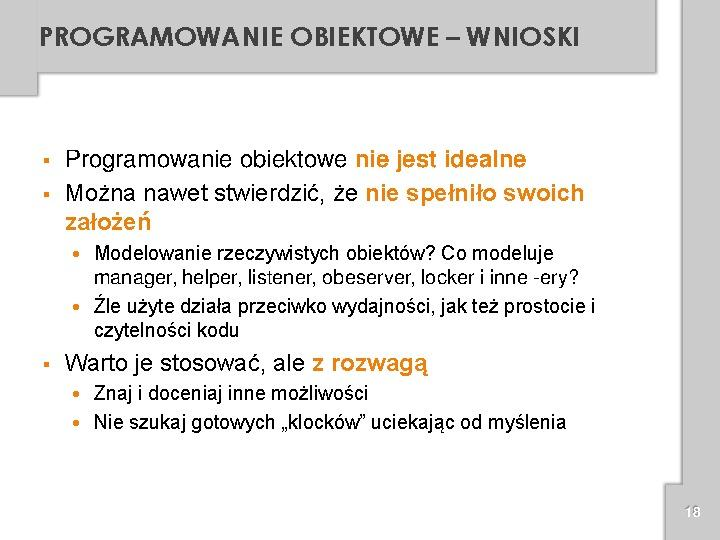paragraph: (25, 126, 648, 468)
title: (31, 11, 595, 63)
